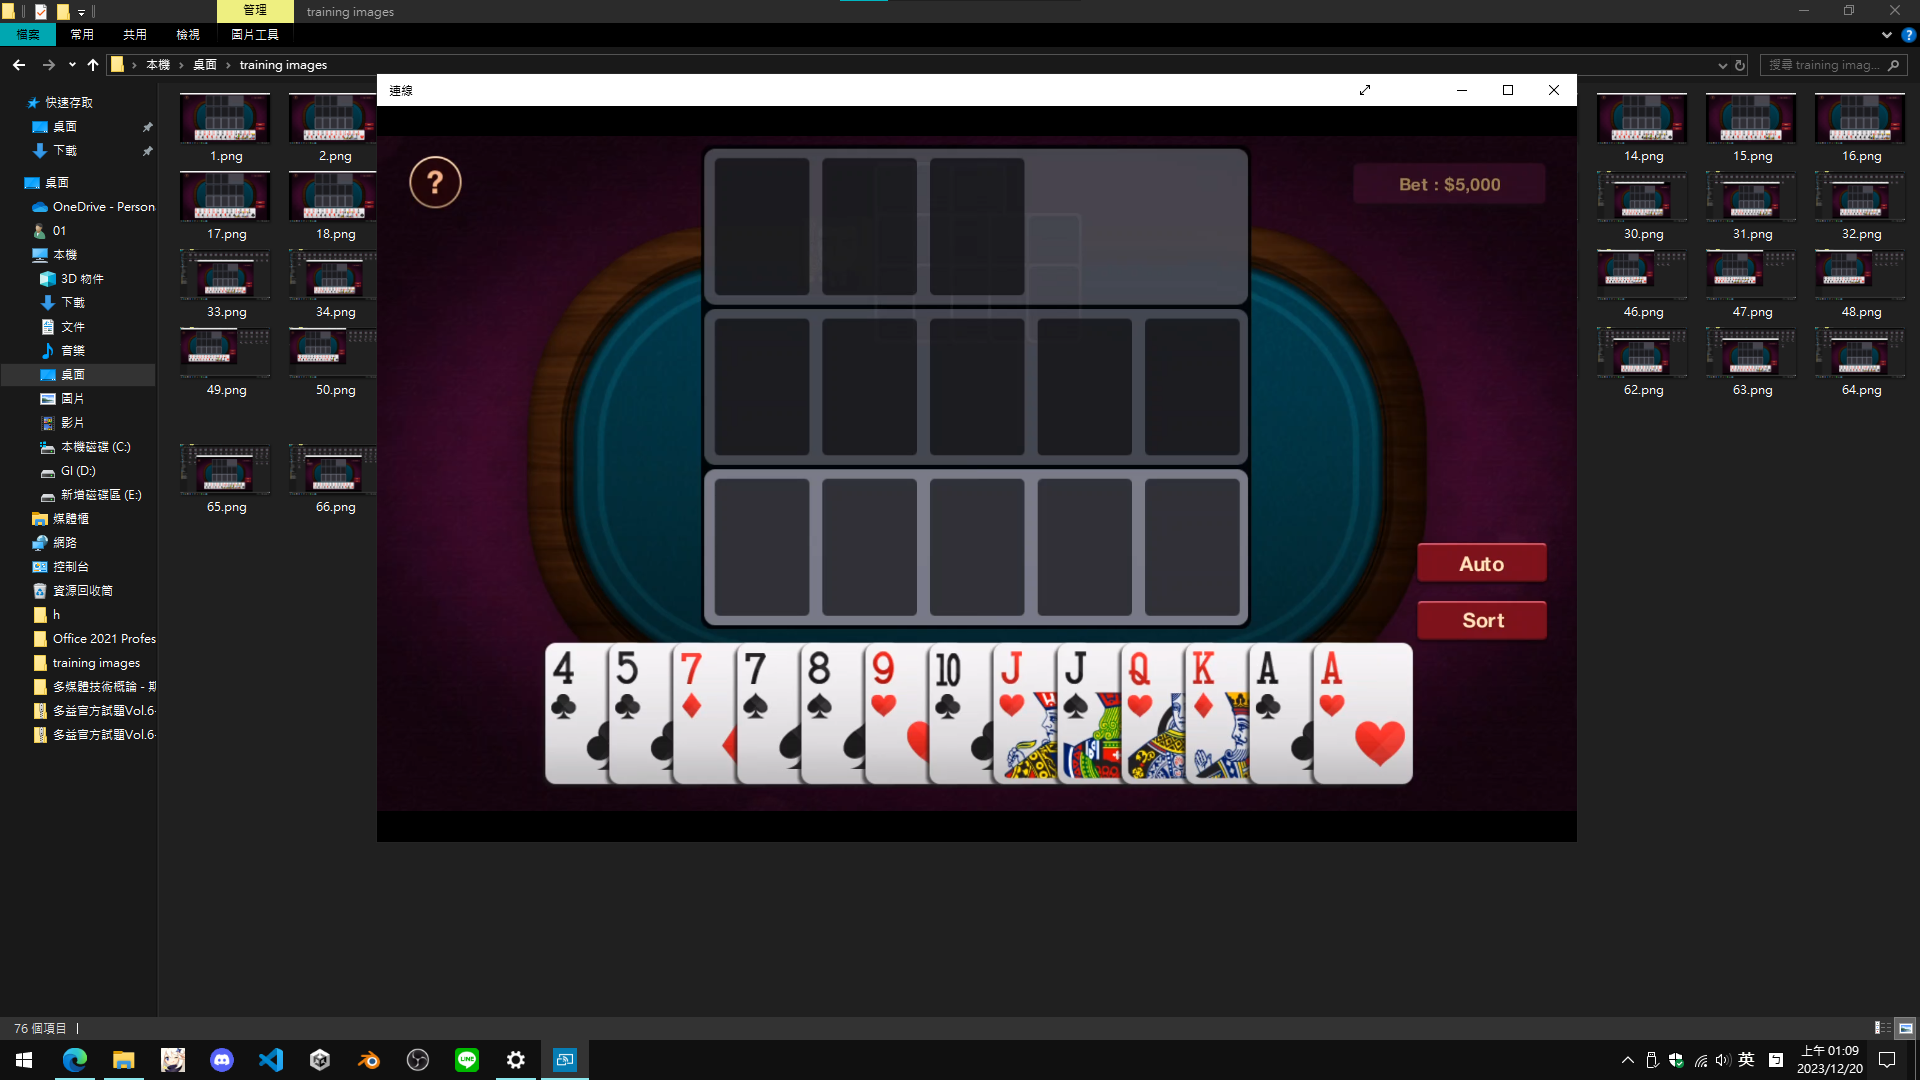10C: (934, 650, 963, 725)
4C: (549, 646, 582, 725)
5C: (613, 646, 644, 721)
7D: (676, 646, 708, 723)
7S: (740, 646, 770, 723)
8S: (806, 649, 835, 725)
9H: (869, 645, 898, 721)
AC: (1253, 646, 1283, 723)
AH: (1317, 649, 1345, 723)
JH: (994, 647, 1029, 719)
JS: (1062, 647, 1091, 724)
KD: (1189, 646, 1217, 721)
QH: (1125, 646, 1156, 721)
